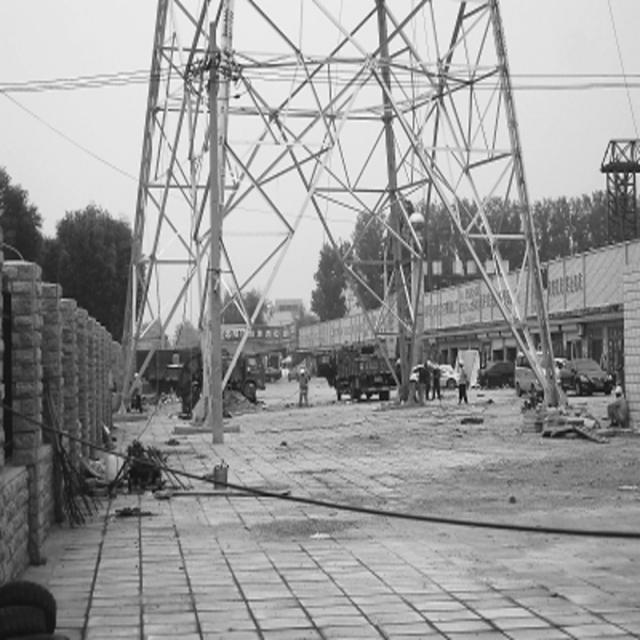non-critical vegetation: (115, 5, 570, 415)
